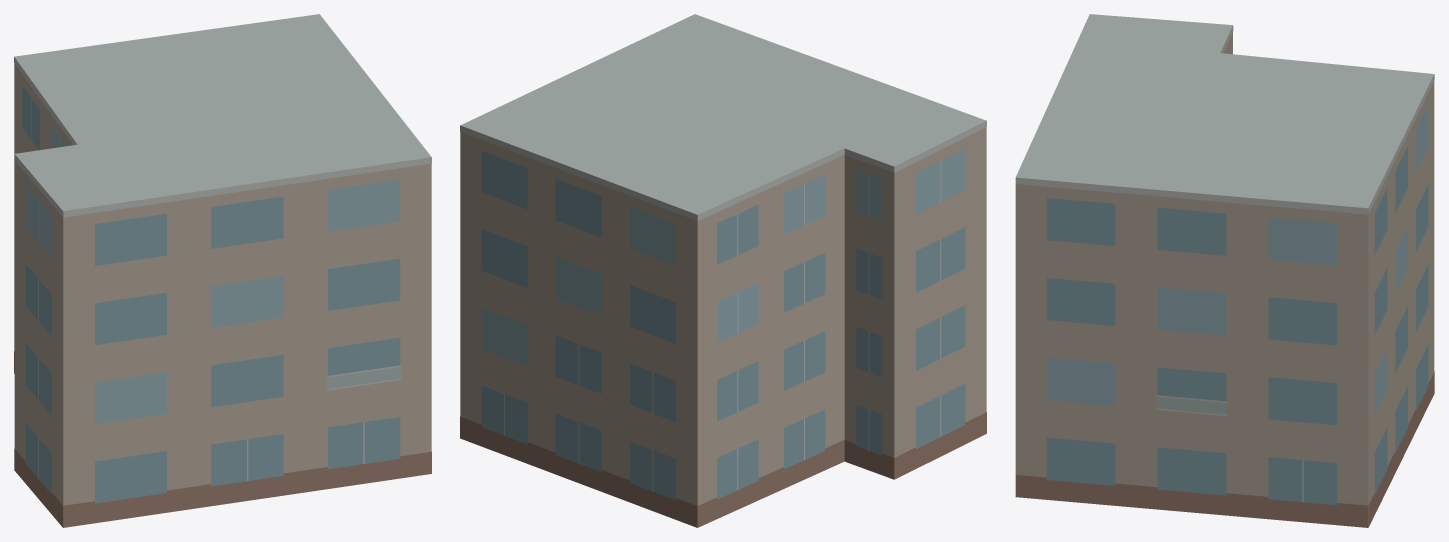
Rendered from survey-upis-32690100.glb.
3 views of the same model, side by side, from view 1: azimuth 30°, elevation 25°; view 2: azimuth 150°, elevation 25°; view 3: azimuth 270°, elevation 25° (orthographic). The views are drawn at different scales.
Parts seen in each view (by area): view 1: survey-upis-32690100.tmp; view 2: survey-upis-32690100.tmp; view 3: survey-upis-32690100.tmp.
Part boxes in pixels (x1,y1,x2,y2): survey-upis-32690100.tmp: (14, 14, 431, 527); survey-upis-32690100.tmp: (460, 14, 986, 527); survey-upis-32690100.tmp: (1015, 14, 1434, 527).
Size of the model in its own units: 15.92 by 12.2 by 14.5.
